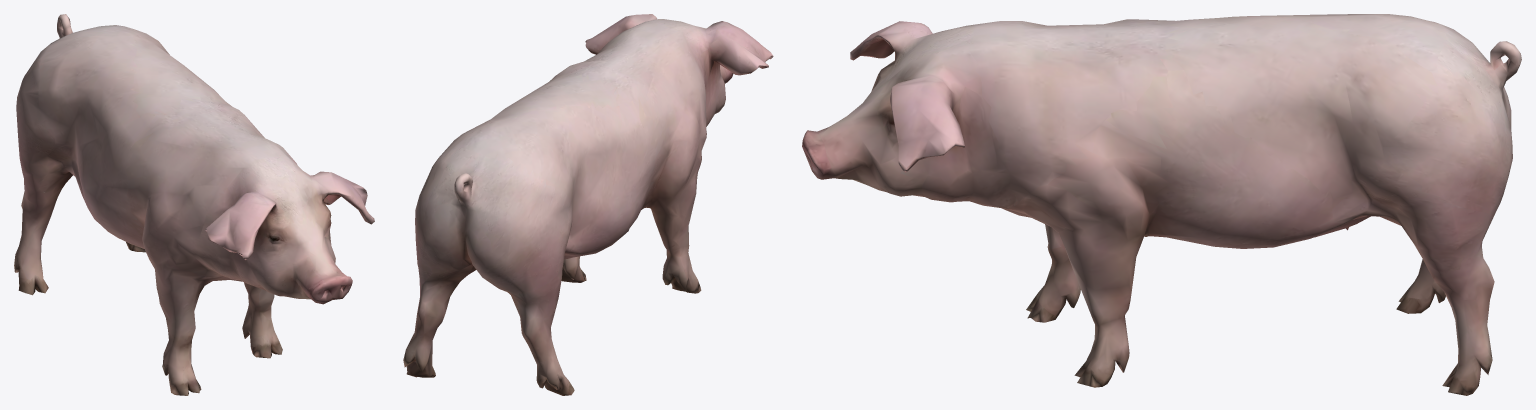
Rendered from animal_pig.glb.
3 views of the same model, side by side, from view 1: azimuth 30°, elevation 25°; view 2: azimuth 150°, elevation 25°; view 3: azimuth 270°, elevation 25° (orthographic). The views are drawn at different scales.
Visible parts, largest first — view 1: tripo_node_b1ce0631-5327-44a8-a035-22972029aead; view 2: tripo_node_b1ce0631-5327-44a8-a035-22972029aead; view 3: tripo_node_b1ce0631-5327-44a8-a035-22972029aead.
Boxes of the visible parts, x1,y1,x2,y2 form: tripo_node_b1ce0631-5327-44a8-a035-22972029aead: (14, 14, 374, 395); tripo_node_b1ce0631-5327-44a8-a035-22972029aead: (403, 14, 773, 395); tripo_node_b1ce0631-5327-44a8-a035-22972029aead: (802, 14, 1521, 395).
Size of the model in its own units: 0.3583 by 0.4877 by 0.9803.
1 material, 1 textured.
